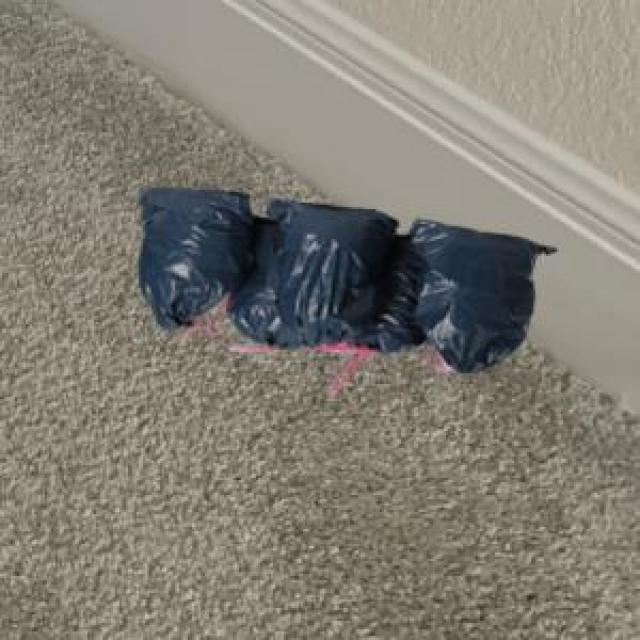miscellaneous trash: (132, 184, 552, 369)
